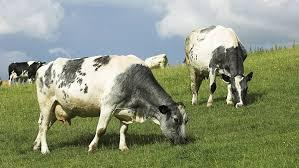cow: (32, 54, 189, 155), (185, 24, 253, 108), (8, 61, 46, 84), (143, 53, 169, 70)
